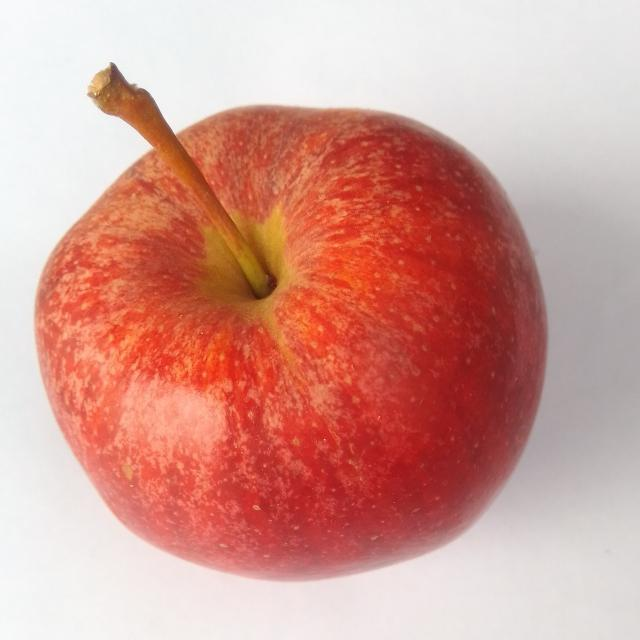Fresh Apple: (34, 96, 558, 586)
